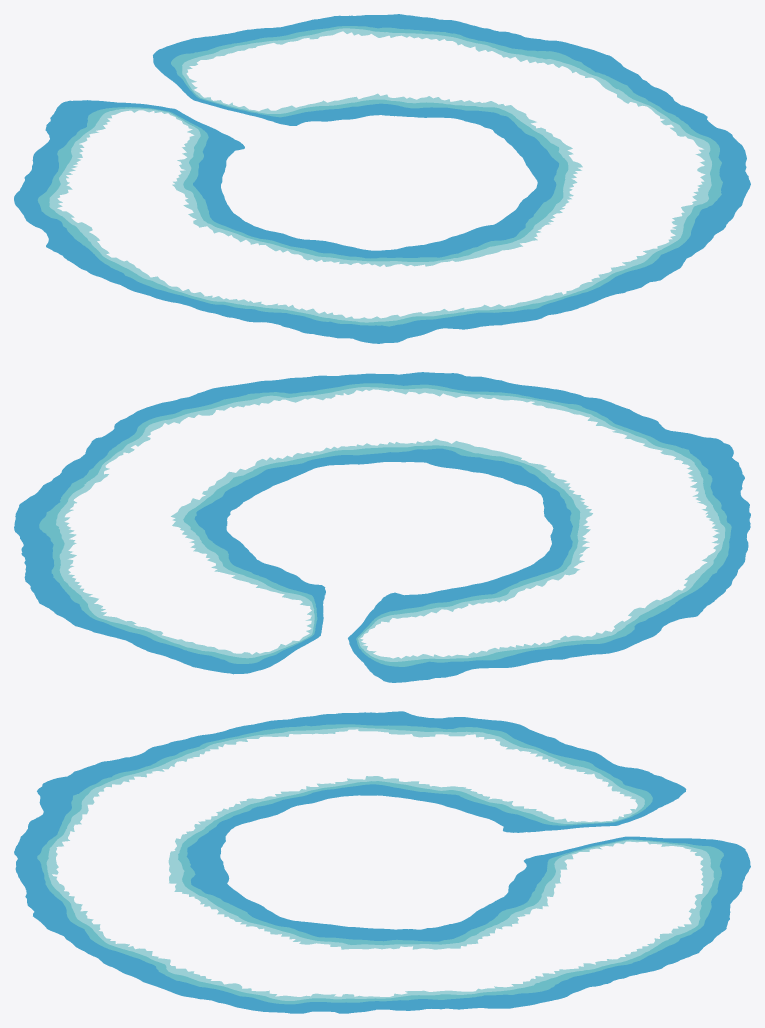
The model's file is Isl-atoll4-Water.fbx.
The picture shows the model from 3 angles, top to bottom: view 1: azimuth 30°, elevation 25°; view 2: azimuth 150°, elevation 25°; view 3: azimuth 270°, elevation 25°; orthographic projection. The views are drawn at different scales.
Visible parts, largest first — view 1: Isl-atoll4-Water; view 2: Isl-atoll4-Water; view 3: Isl-atoll4-Water.
Boxes of the visible parts, <box> form: Isl-atoll4-Water: <box>14,14,750,343</box>; Isl-atoll4-Water: <box>14,372,750,682</box>; Isl-atoll4-Water: <box>14,711,750,1013</box>.
Bounding box in the file's own units: 121 × 0 × 125.
